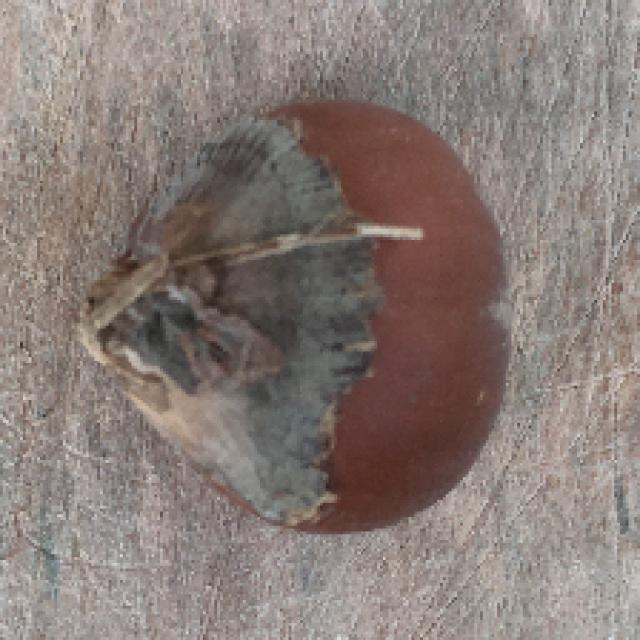DamagedHazelnut: (76, 104, 512, 540)
